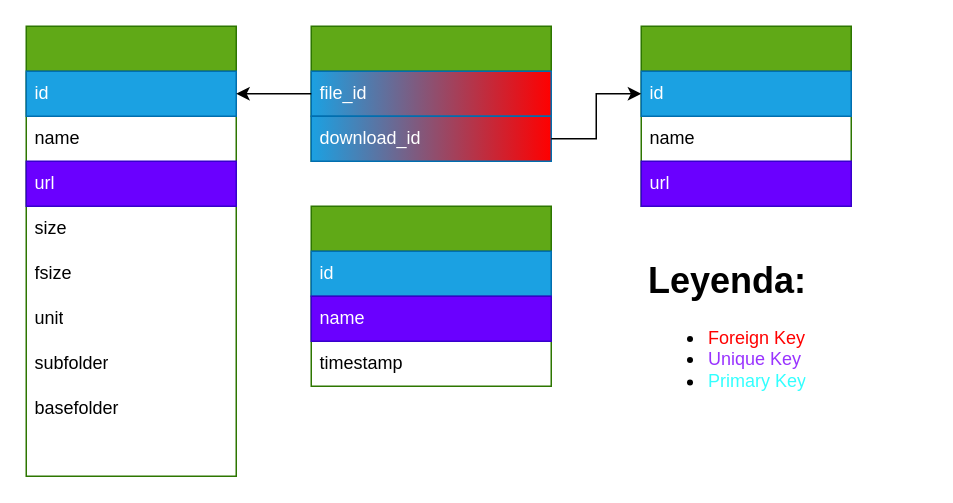
The diagram is 953 pixels wide and 503 high, and some of its shapes have lost their labels. Each missing label, with the box of its shape:
archivos: (25, 25, 236, 476)
downloads: (640, 25, 851, 206)
files_downloads: (310, 25, 551, 161)
Updates: (310, 205, 551, 386)
